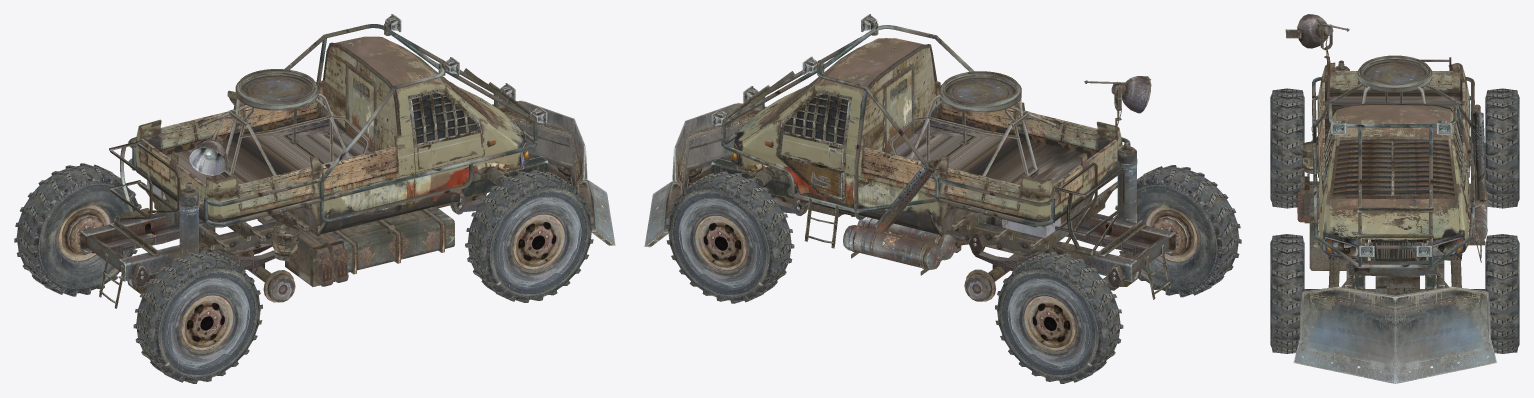
The model's file is metrojeep.glb.
3 renders of one model, left to right at view 1: azimuth 30°, elevation 25°; view 2: azimuth 150°, elevation 25°; view 3: azimuth 270°, elevation 25°, orthographic. The views are drawn at different scales.
Visible parts, largest first — view 1: Object_2, Object_4; view 2: Object_2; view 3: Object_2, Object_4.
Part boxes in pixels (x1,y1,x2,y2): Object_2: (14,14,615,383); Object_4: (296,232,348,286); Object_2: (644,14,1241,383); Object_2: (1270,14,1519,383); Object_4: (1297,181,1318,222).
Size of the model in its own units: 8.69 by 3.59 by 3.97.
Materials: 2 (2 with a texture image).
